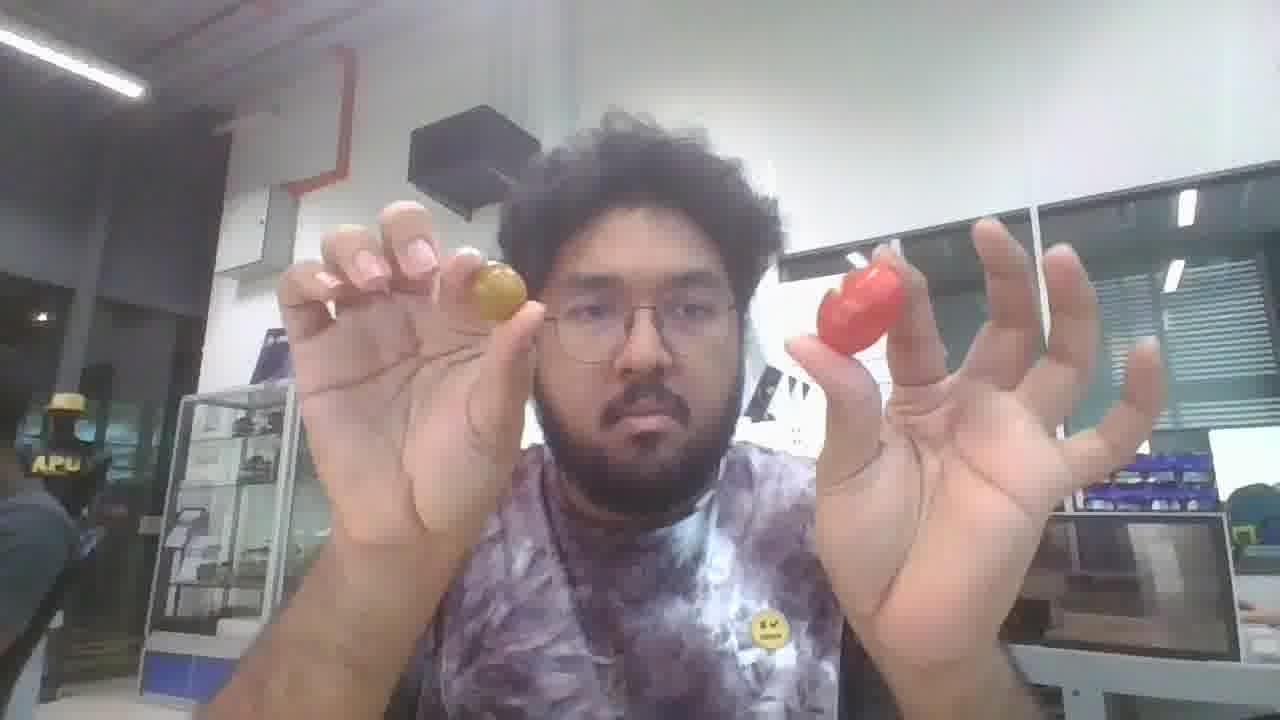red_cherry_tomato: (816, 264, 904, 354)
yellow_cherry_tomato: (468, 261, 527, 321)
